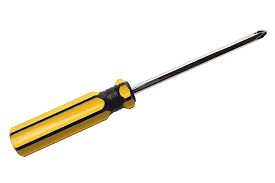screwdriver: (11, 27, 272, 157)
